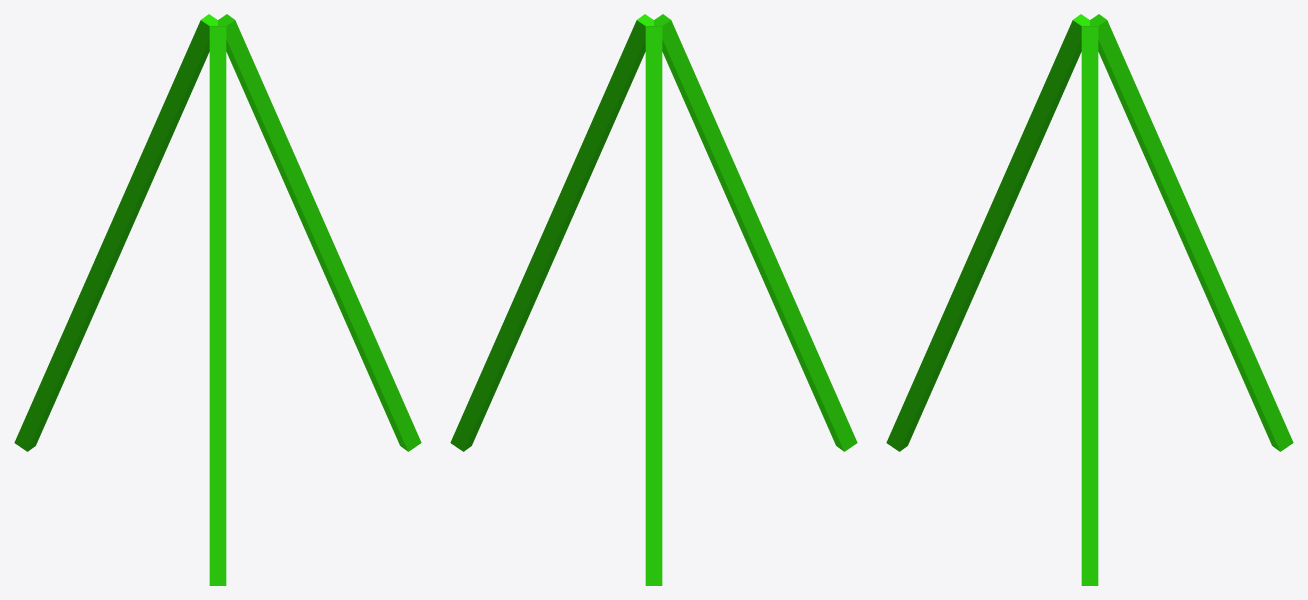
Rendered from Brasero_02_Base_Lod0.fbx.
3 views of the same model, side by side, from view 1: azimuth 30°, elevation 25°; view 2: azimuth 150°, elevation 25°; view 3: azimuth 270°, elevation 25° (orthographic).
Visible parts, largest first — view 1: Brasero_02_Base_Lod0; view 2: Brasero_02_Base_Lod0; view 3: Brasero_02_Base_Lod0.
Boxes of the visible parts, <box> form: Brasero_02_Base_Lod0: <box>14,14,421,585</box>; Brasero_02_Base_Lod0: <box>450,14,857,585</box>; Brasero_02_Base_Lod0: <box>886,14,1293,585</box>.
Bounding box in the file's own units: 83.14 × 123 × 96.
